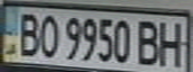0: (112, 16, 136, 64)
5: (97, 15, 118, 63)
9: (78, 14, 100, 62), (60, 12, 81, 61)
B: (133, 17, 163, 66), (12, 9, 42, 57)
H: (154, 17, 190, 68)
O: (36, 11, 60, 58)
